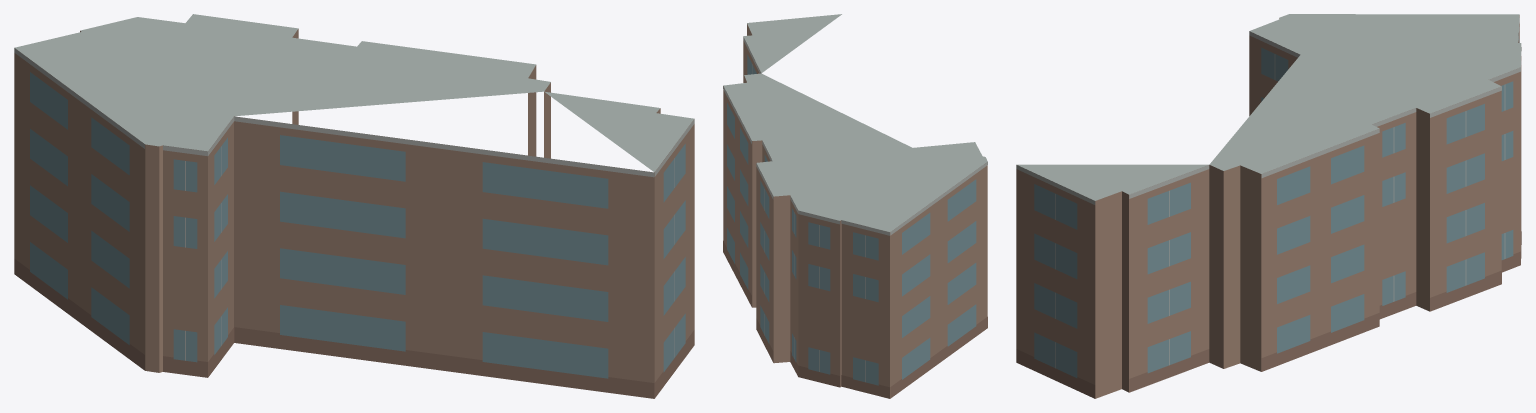
The model's file is survey-upis-32789231.glb.
3 renders of one model, left to right at view 1: azimuth 30°, elevation 25°; view 2: azimuth 150°, elevation 25°; view 3: azimuth 270°, elevation 25°, orthographic. The views are drawn at different scales.
Parts seen in each view (by area): view 1: survey-upis-32789231.tmp; view 2: survey-upis-32789231.tmp; view 3: survey-upis-32789231.tmp.
Boxes of the visible parts, left/top/right/bottom form: survey-upis-32789231.tmp: left=14, top=14, right=694, bottom=398; survey-upis-32789231.tmp: left=723, top=14, right=987, bottom=398; survey-upis-32789231.tmp: left=1016, top=14, right=1521, bottom=398.
Bounding box in the file's own units: 22.69 × 11.2 × 25.91.
